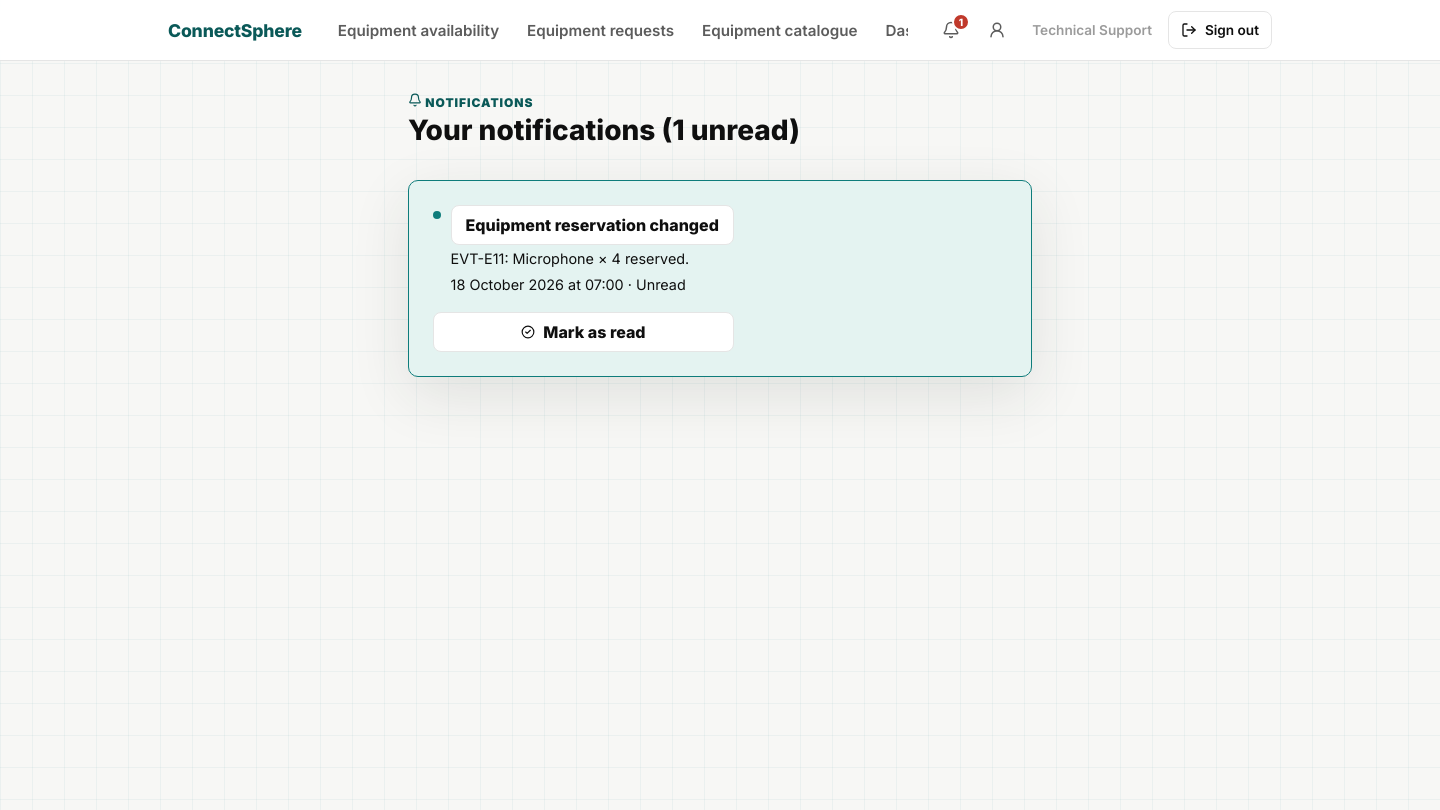
Test case: TC_E11S01_07 marking a notice read updates the bell without navigation or reload
Check: the link named "Notifications, 1 unread" is shown, box [942,13,970,39]
Check: the text "EVT-E11: Microphone × 4 reserved." is shown, box [451,250,689,267]
Click the button "Mark as read" at x=583, y=332, box [433,312,734,352]
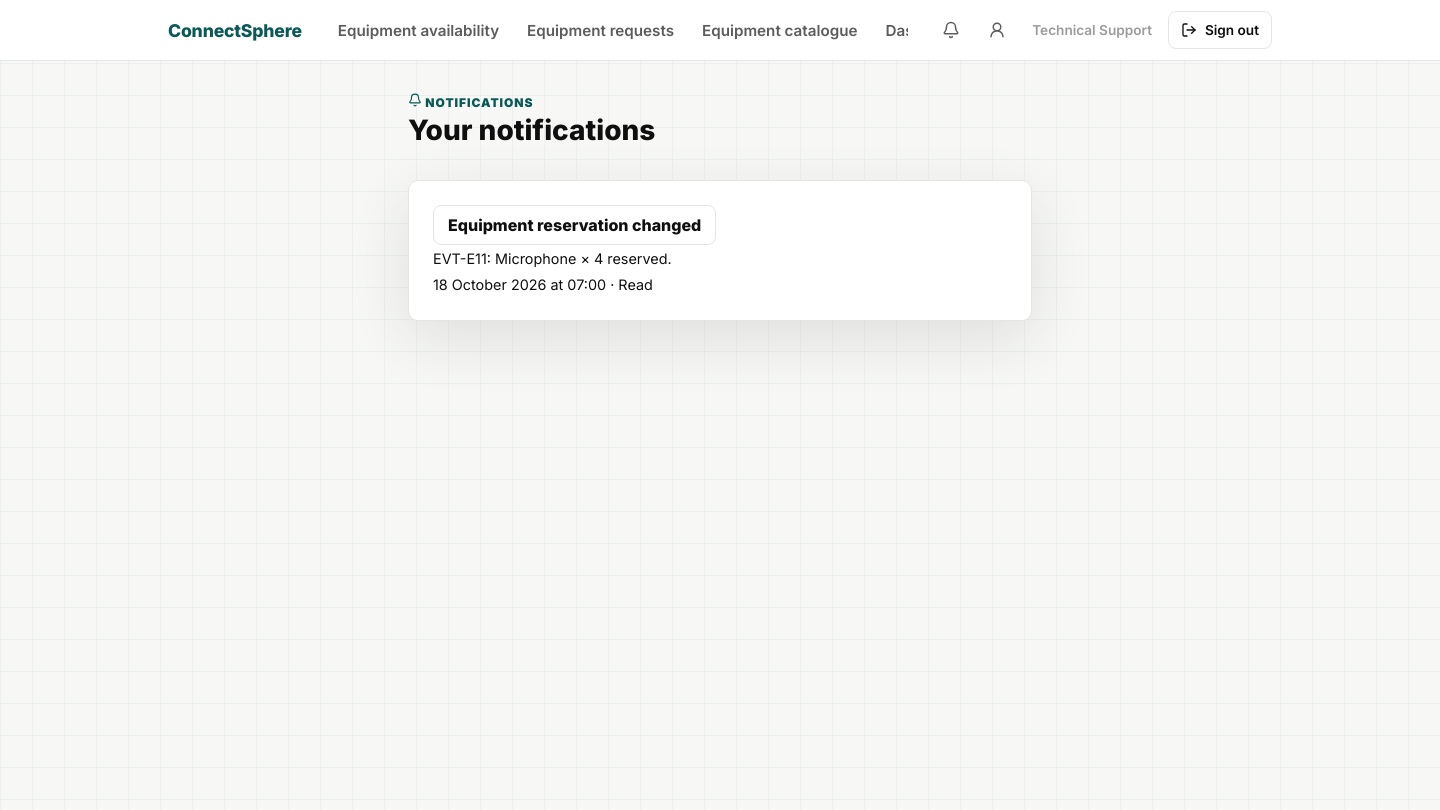
Check: the link named "Notifications" is shown, box [942,21,960,39]
Check: the text "18 October 2026 at 07:00 · Read" is shown, box [433,276,653,293]
